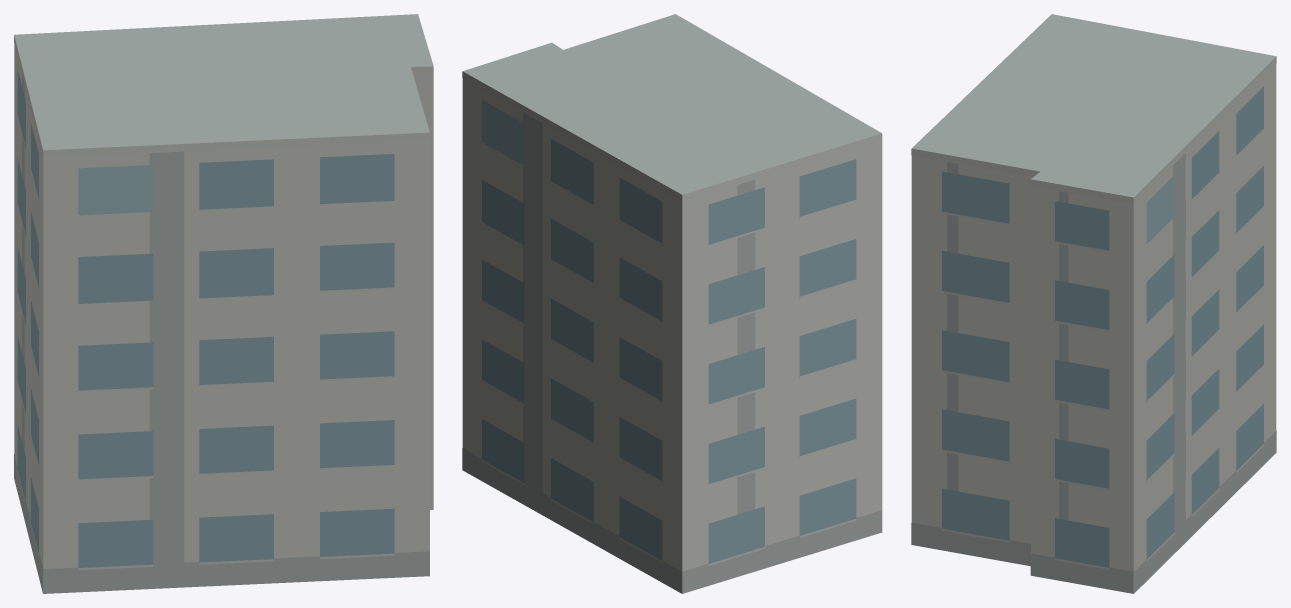
The model's file is survey-upis-32780455.glb.
3 renders of one model, left to right at view 1: azimuth 30°, elevation 25°; view 2: azimuth 150°, elevation 25°; view 3: azimuth 270°, elevation 25°, orthographic. The views are drawn at different scales.
Parts seen in each view (by area): view 1: survey-upis-32780455.tmp; view 2: survey-upis-32780455.tmp; view 3: survey-upis-32780455.tmp.
Part boxes in pixels (x1,y1,x2,y2): survey-upis-32780455.tmp: [14, 14, 433, 593]; survey-upis-32780455.tmp: [462, 14, 882, 593]; survey-upis-32780455.tmp: [911, 14, 1276, 593].
Bounding box in the file's own units: 13.81 × 13.9 × 11.61.
